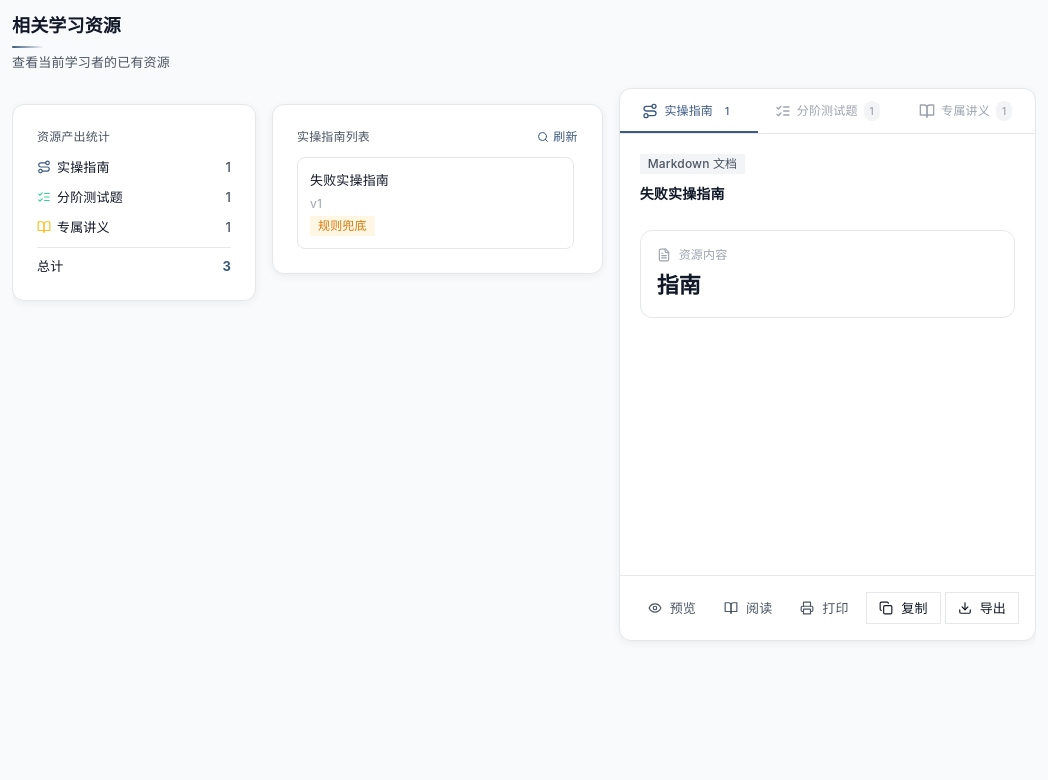
Test: ResourceGeneration context modes › does not expose quality validation failure labels for any resource type
Expected: the text "失败实操指南" is shown, [310, 172, 389, 188]
What coordinates should you click on to do the following:
click the button "分阶测试题 1"
I would click on:
 (827, 111)
Its box is [758, 89, 896, 133].
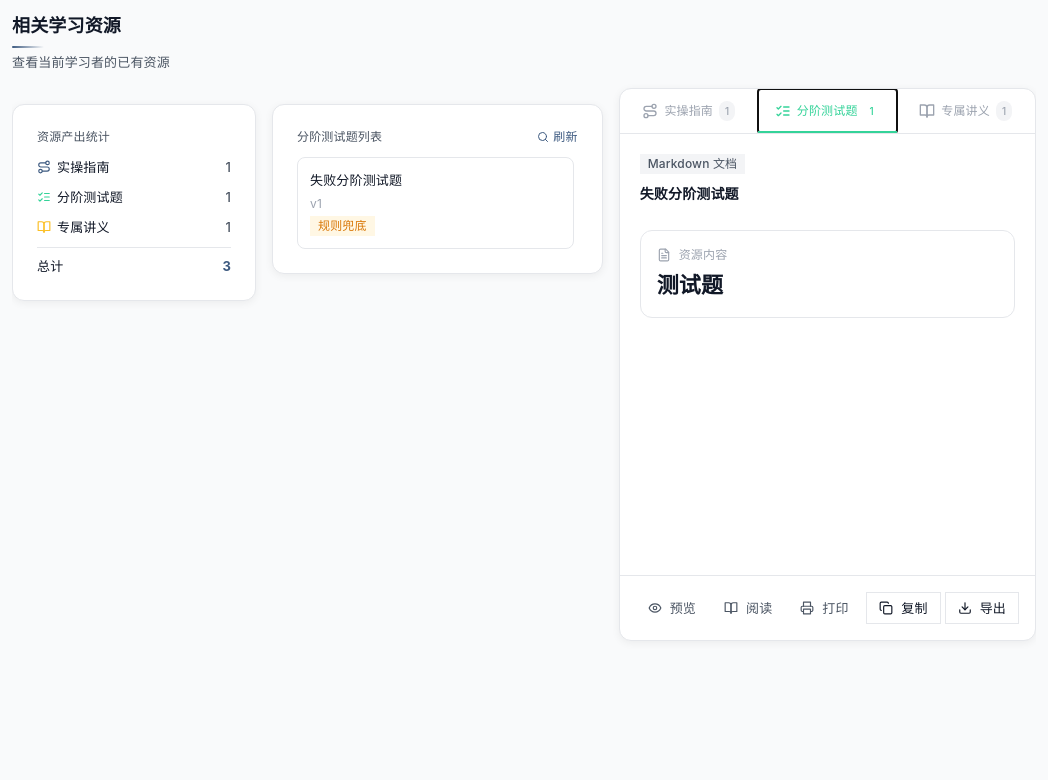
Expected: the text "失败分阶测试题" is shown, [310, 172, 402, 188]
What coordinates should you click on to do the following:
click the button "专属讲义 1"
I would click on:
 (966, 111)
Its box is [896, 89, 1035, 133].
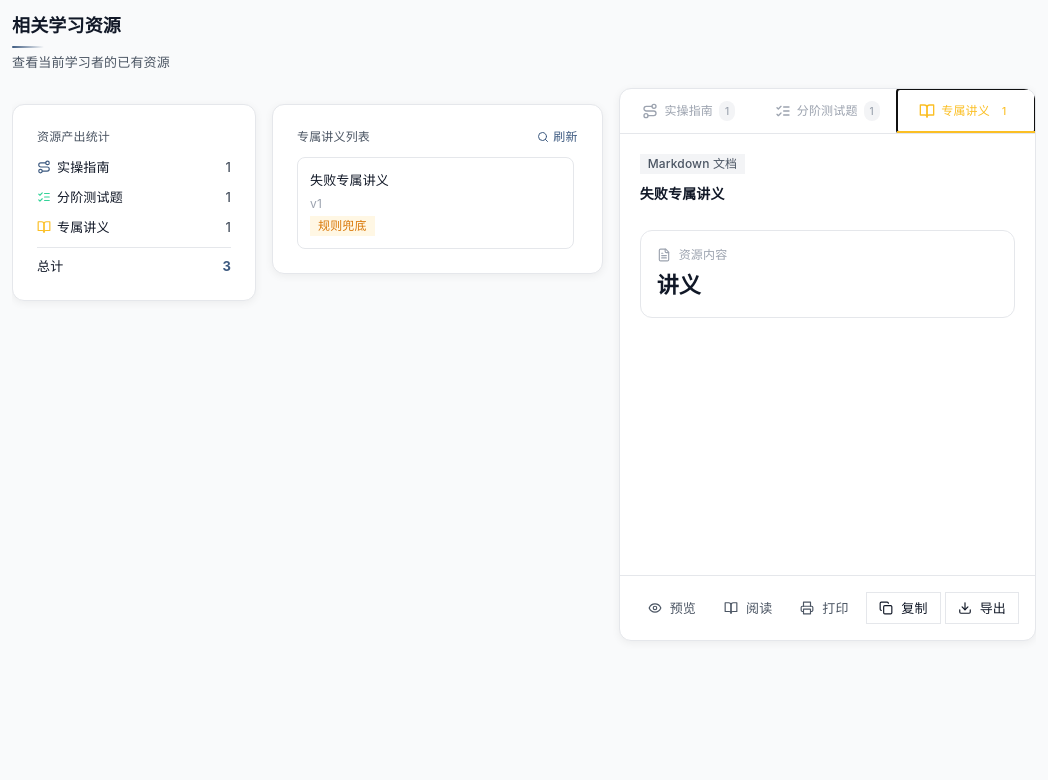
Expected: the text "失败专属讲义" is shown, [310, 172, 389, 188]
